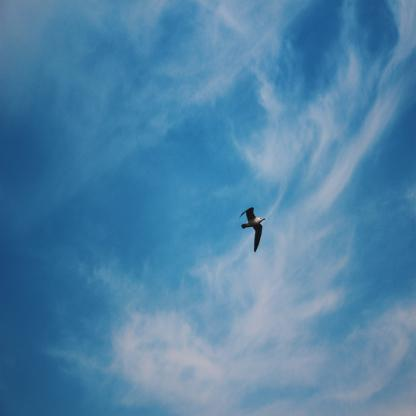bird: (239, 207, 265, 253)
